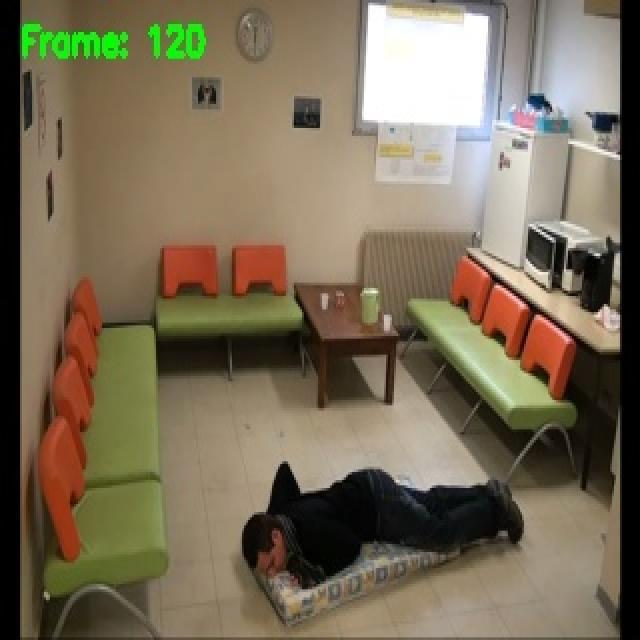fall: (238, 466, 532, 590)
